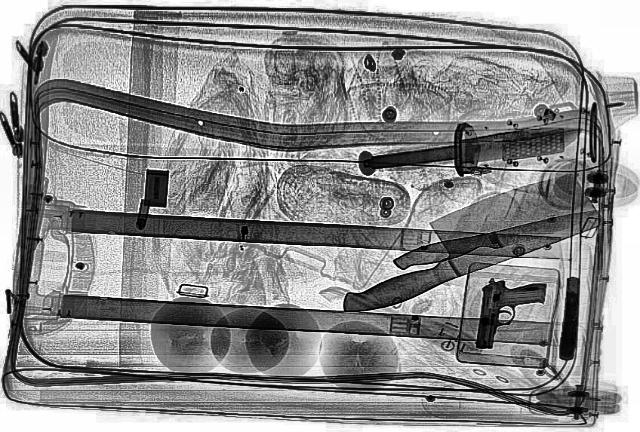Gun: (470, 276, 548, 352), (555, 276, 583, 360)
Knife: (300, 169, 620, 319), (388, 203, 614, 272), (358, 120, 588, 176)
